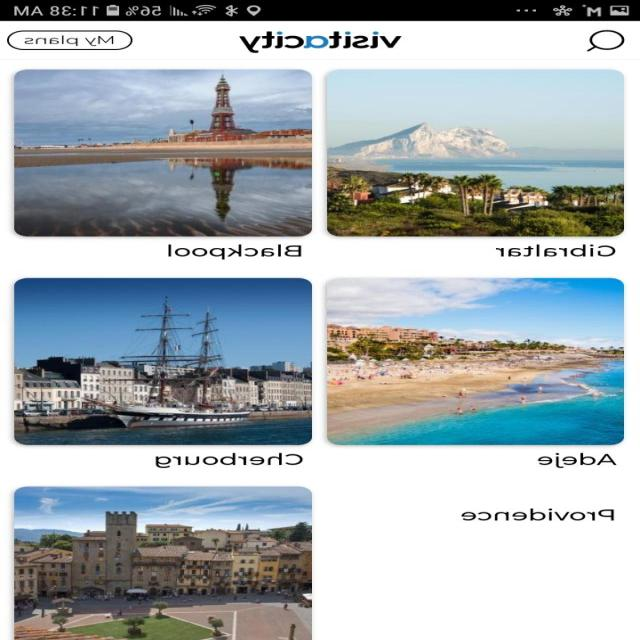Icon: (586, 29, 625, 52)
Image: (327, 278, 625, 445), (14, 278, 312, 445), (15, 69, 313, 236), (327, 70, 624, 236), (15, 486, 313, 640), (239, 31, 403, 53)
Text: (156, 452, 304, 468), (168, 244, 302, 259), (461, 508, 615, 520), (495, 244, 616, 256), (537, 452, 617, 468)
TextButton: (7, 30, 133, 50)
